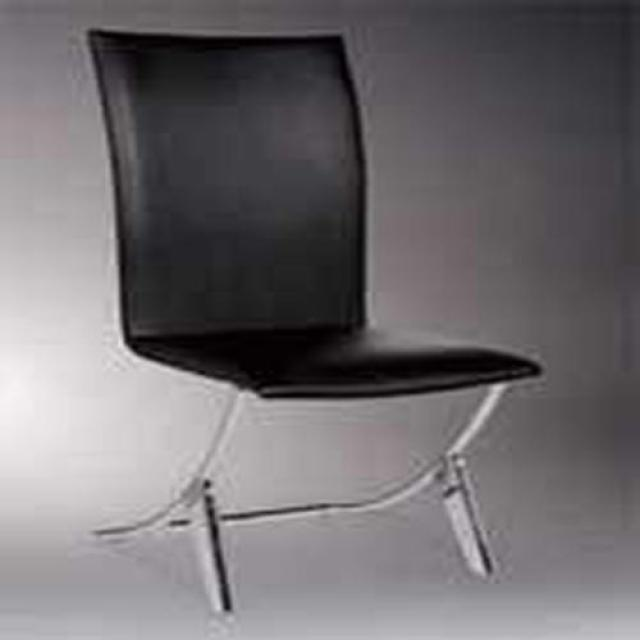chair: (87, 29, 544, 617)
